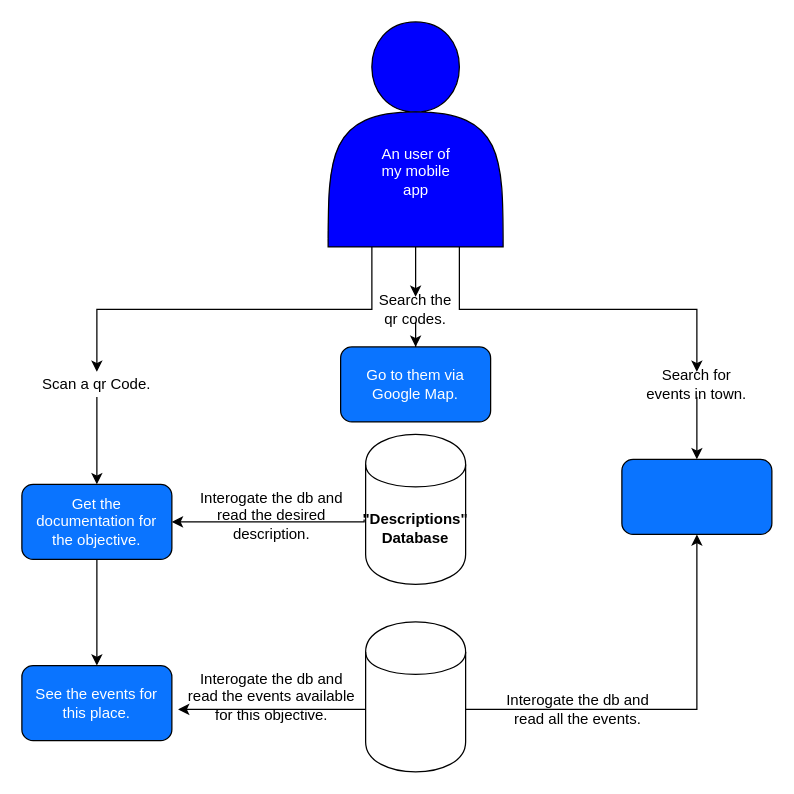
Image size: 794x794. Some labels were removed from this diagram. Here are the shapes that lost their labels. From the top down, the box of each, then its label:
(621, 458, 772, 534): See every event which is available.
(364, 621, 466, 772): "Events" Database
